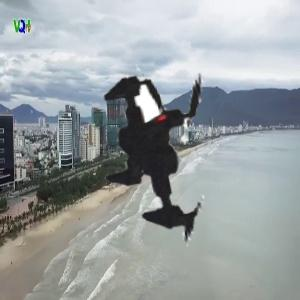drone: (40, 23, 299, 282)
